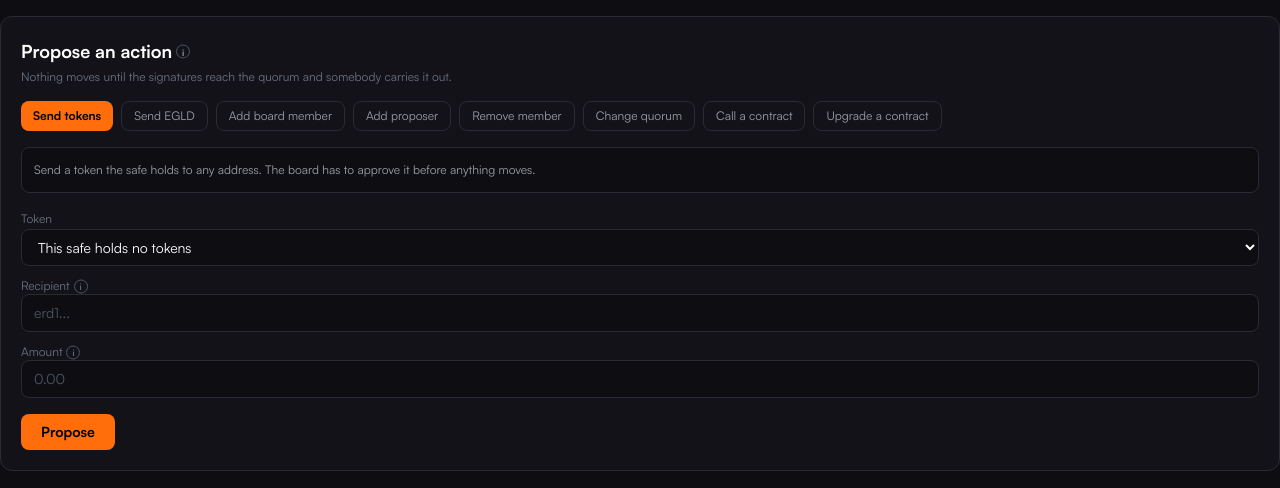
Test case: a removal the contract would refuse for the quorum is refused here first
This screenshot has width=1280, height=488.
Click the button "Remove member" at (517, 116), box [459,101,575,131]
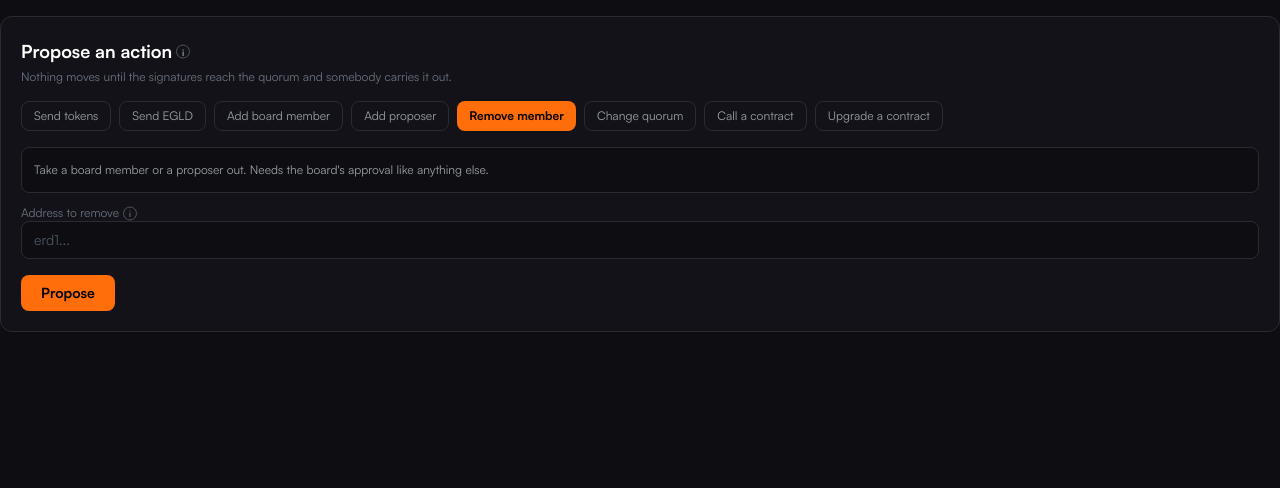
Type "erd1cn8w9h2gfks6fglhxcmfka5w98hym47s0w8r9y4nqq9syh3ddfvsr0ljwe" into the field with placeholder "erd1..." at (640, 240), box [21,220,1259,258]
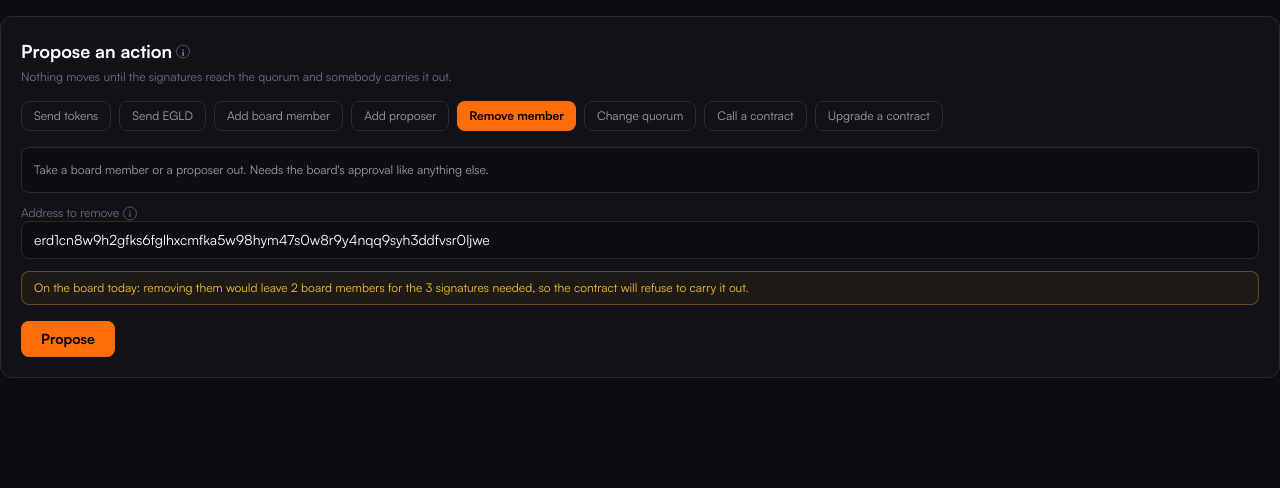
Click the button "Propose" at (68, 338), box [21,320,115,356]
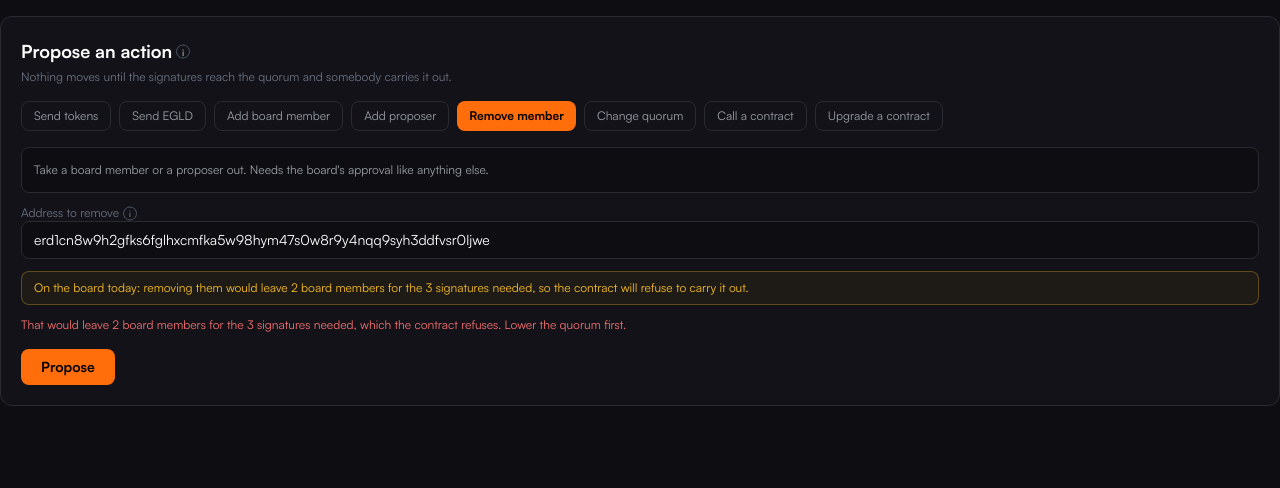
Check: the text "lower the quorum first" is shown, box [21,316,626,332]
